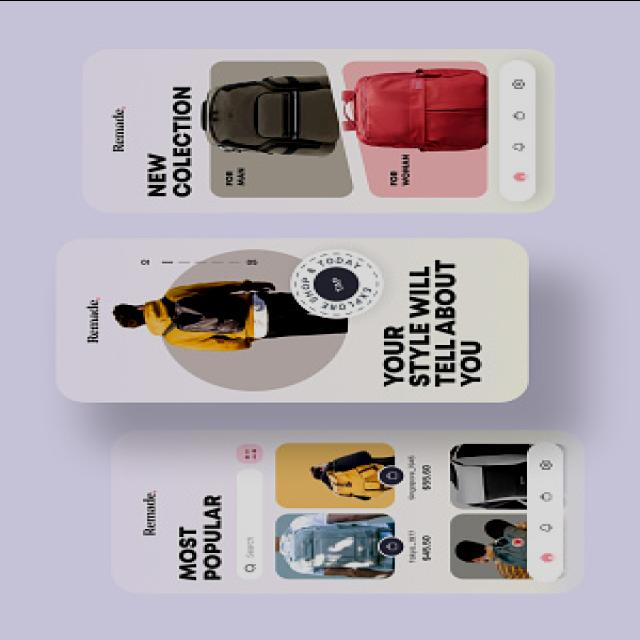backpack: (337, 66, 496, 163), (194, 72, 342, 164), (453, 448, 529, 505), (294, 523, 382, 570), (161, 296, 247, 339), (326, 464, 394, 500)
